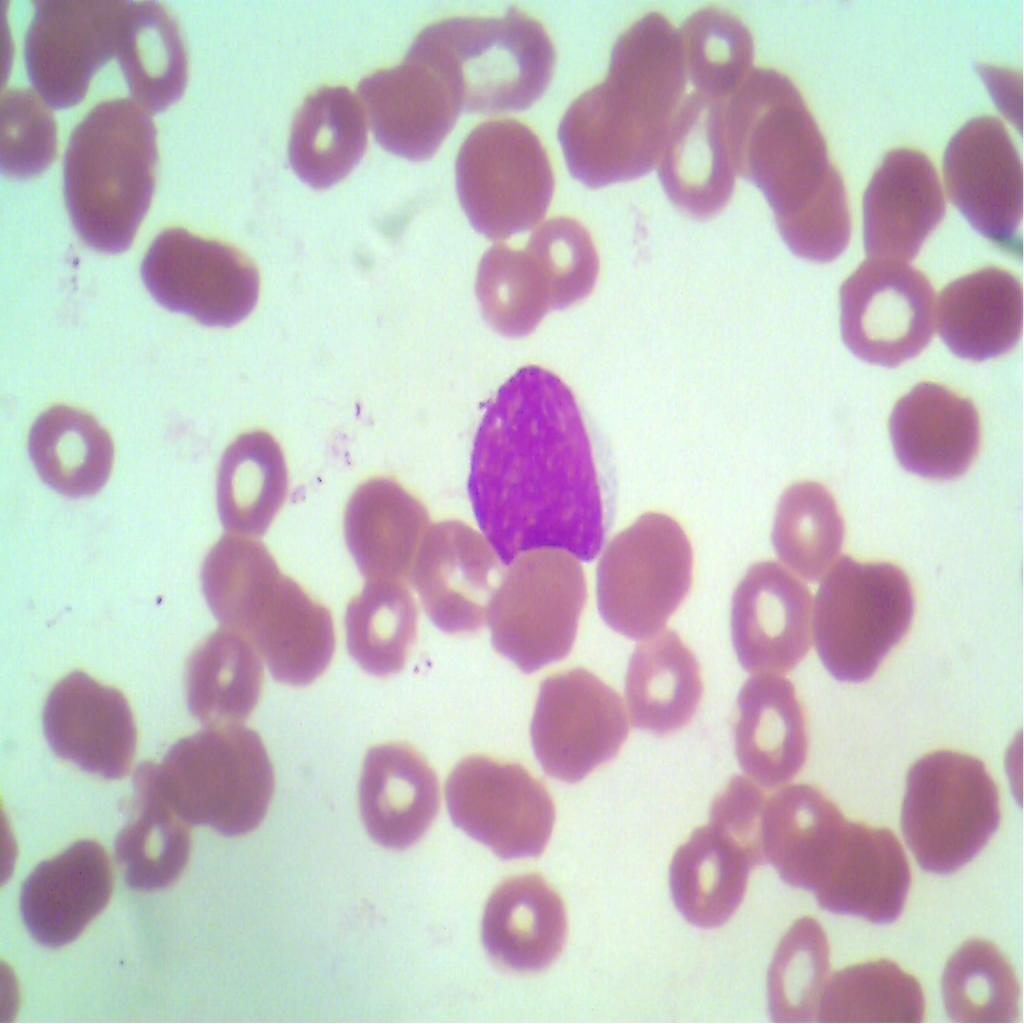Eritrosit: (442, 109, 560, 247), (26, 651, 142, 784), (899, 734, 1008, 875), (806, 557, 920, 688), (57, 104, 160, 248), (487, 538, 592, 678), (414, 15, 558, 115), (518, 660, 634, 784), (723, 652, 823, 794), (882, 372, 1002, 484), (19, 832, 125, 957), (595, 506, 695, 636), (473, 854, 570, 984), (20, 392, 119, 514), (942, 106, 1023, 252), (557, 77, 657, 194), (275, 74, 366, 200), (836, 263, 942, 368), (762, 470, 853, 588), (658, 100, 742, 227), (357, 56, 452, 168), (857, 139, 945, 258), (353, 728, 439, 847), (410, 520, 496, 638), (730, 550, 810, 672), (112, 0, 195, 117), (110, 767, 184, 898), (208, 420, 290, 538), (755, 782, 840, 891), (933, 922, 1023, 1023), (933, 266, 1023, 367), (622, 624, 706, 732), (784, 162, 862, 277), (599, 5, 683, 111), (658, 828, 744, 928), (464, 225, 542, 335), (519, 208, 602, 310), (20, 0, 101, 103), (726, 54, 796, 171), (482, 758, 562, 859), (750, 109, 826, 215), (339, 575, 419, 675), (205, 728, 279, 834), (0, 79, 70, 189), (162, 724, 238, 825), (182, 625, 259, 724), (184, 241, 262, 338), (350, 474, 427, 572), (677, 2, 755, 98), (707, 758, 777, 864), (766, 908, 830, 1023), (802, 812, 875, 909), (194, 531, 276, 616), (824, 955, 922, 1023), (847, 842, 915, 932), (142, 218, 206, 310), (243, 568, 310, 652), (280, 604, 342, 690), (442, 754, 506, 832)
Limfoblast: (468, 354, 630, 569)
Platelet: (142, 574, 170, 619)
